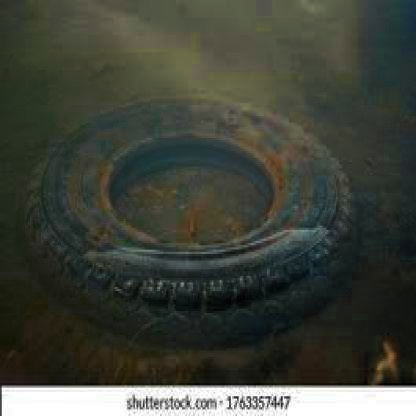tire: (38, 90, 364, 324)
